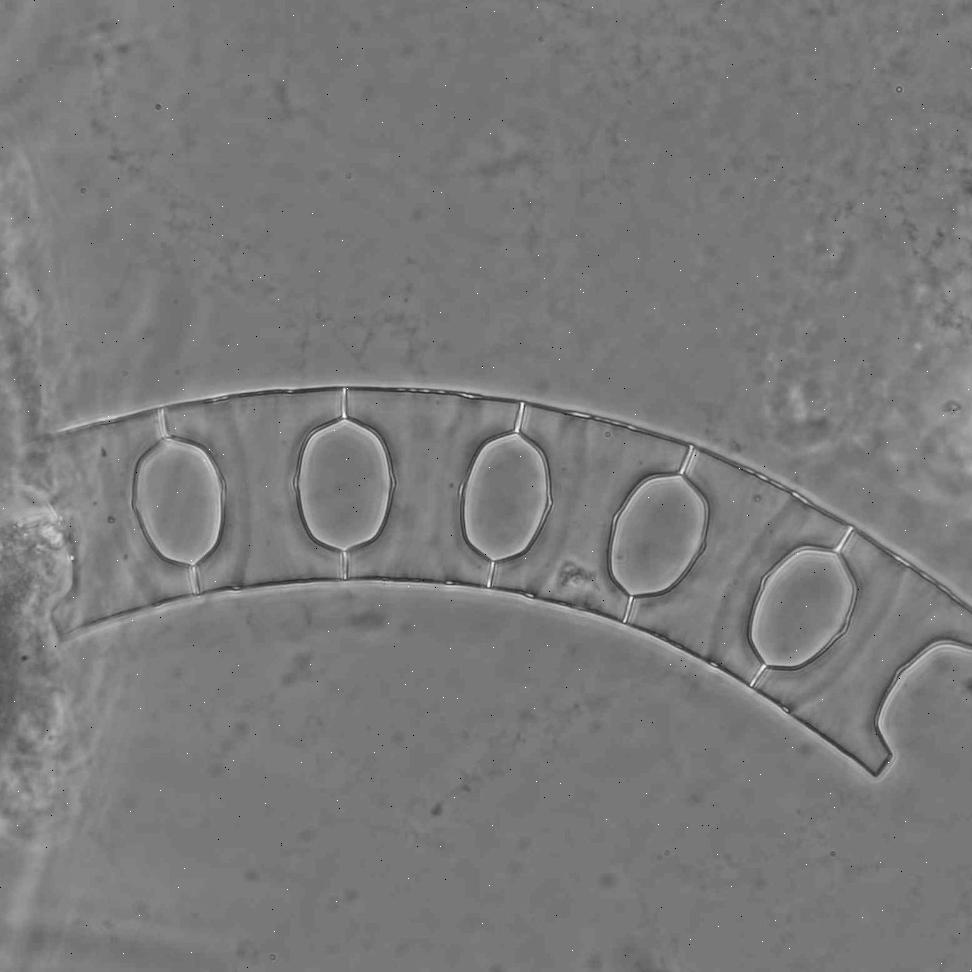eucampia_zodiacus: (53, 385, 972, 774)
